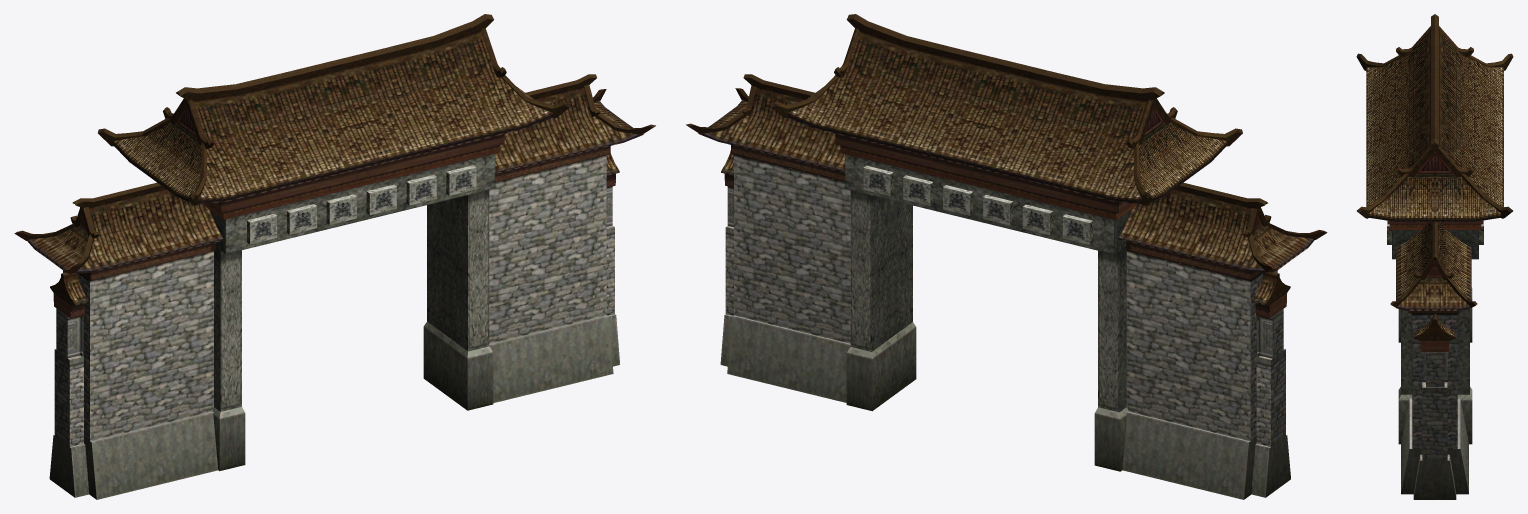
Rendered from b1-middledam-01.glb.
The picture shows the model from 3 angles, left to right: view 1: azimuth 30°, elevation 25°; view 2: azimuth 150°, elevation 25°; view 3: azimuth 270°, elevation 25°; orthographic projection. The views are drawn at different scales.
Visible parts, largest first — view 1: b1-middledam-02, b1-middledam-01; view 2: b1-middledam-02, b1-middledam-01; view 3: b1-middledam-01, b1-middledam-02.
Part boxes in pixels (x1,y1,x2,y2): b1-middledam-02: (14,74,655,499); b1-middledam-01: (98,14,571,471); b1-middledam-02: (686,74,1327,499); b1-middledam-01: (768,14,1242,471); b1-middledam-01: (1356,14,1513,444); b1-middledam-02: (1390,222,1477,499).
Bounding box in the file's own units: 22.82 × 13.67 × 6.24.
2 materials, 2 textured.
